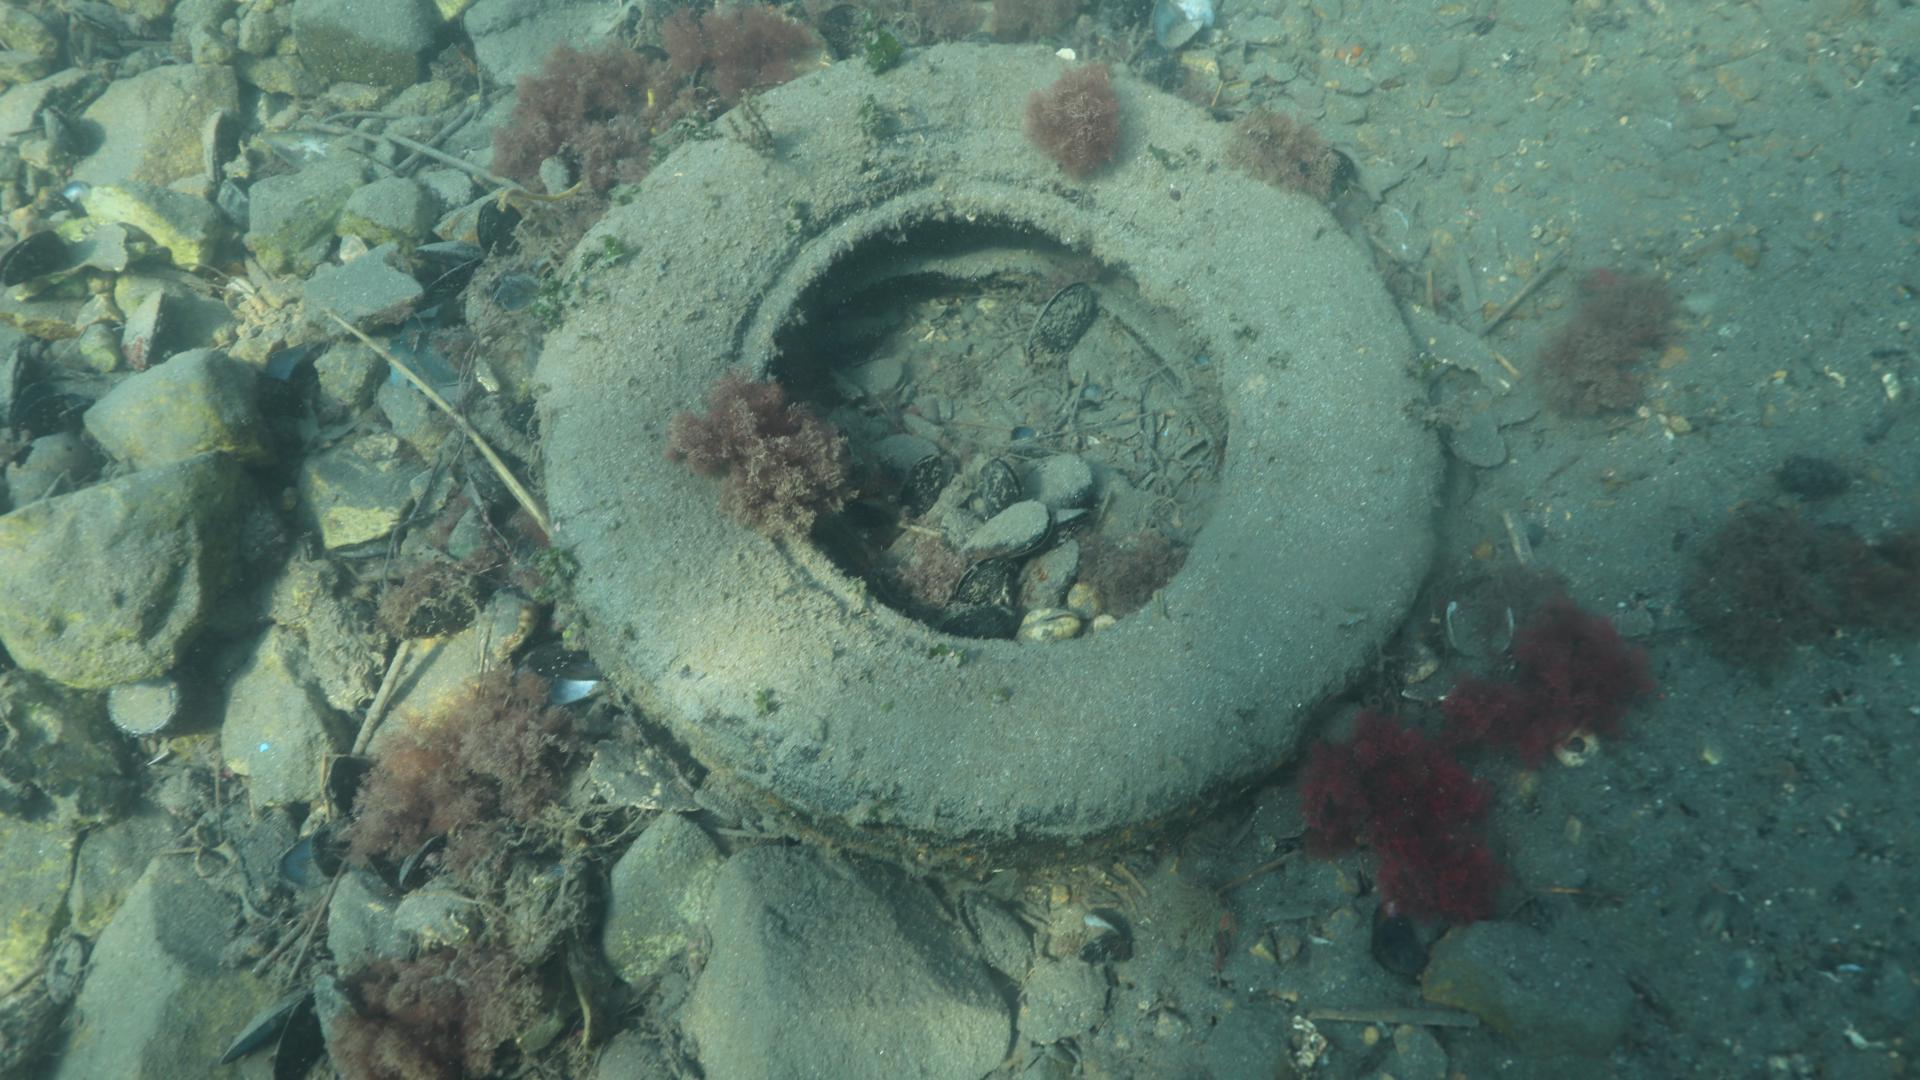tire: (530, 40, 1445, 880)
